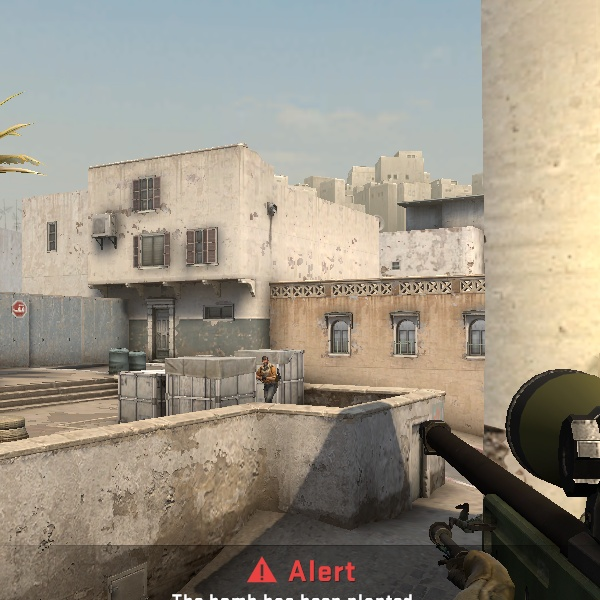t_body: (253, 354, 282, 402)
t_head: (260, 355, 270, 368)
